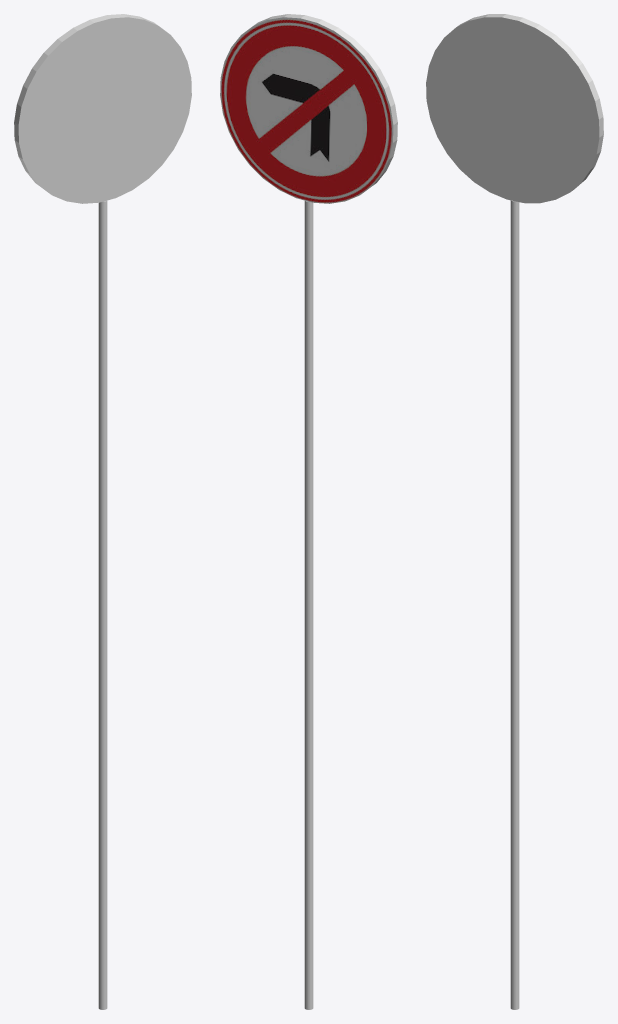
Rendered from solyok.dae.
3 renders of one model, left to right at view 1: azimuth 30°, elevation 25°; view 2: azimuth 150°, elevation 25°; view 3: azimuth 330°, elevation 25°, orthographic.
Visible parts, largest first — view 1: Cylinder_001, Cylinder; view 2: Cylinder_001, Cylinder; view 3: Cylinder_001, Cylinder.
Part boxes in pixels (x1,y1,x2,y2): Cylinder_001: [14, 14, 191, 203]; Cylinder: [98, 200, 107, 1009]; Cylinder_001: [220, 14, 397, 203]; Cylinder: [304, 200, 313, 1009]; Cylinder_001: [426, 14, 603, 203]; Cylinder: [510, 200, 519, 1009].
Size of the model in its own units: 0.4489 by 0.02 by 2.45.
Materials: 1 (1 with a texture image).
